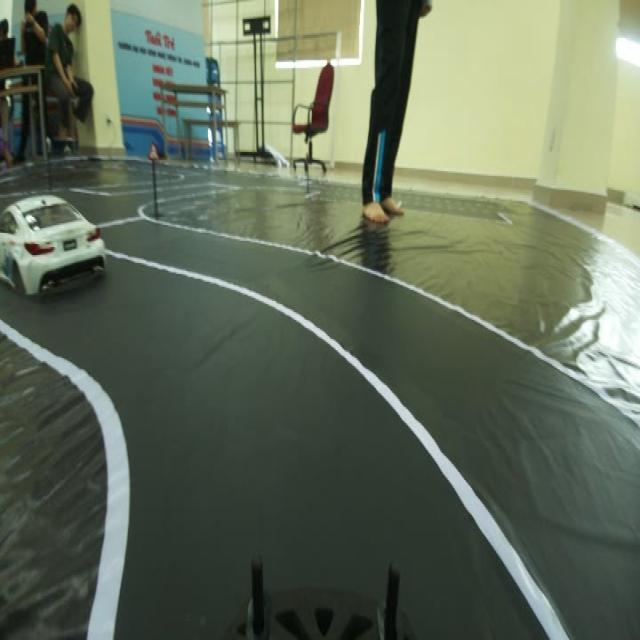car: (2, 175, 111, 313)
